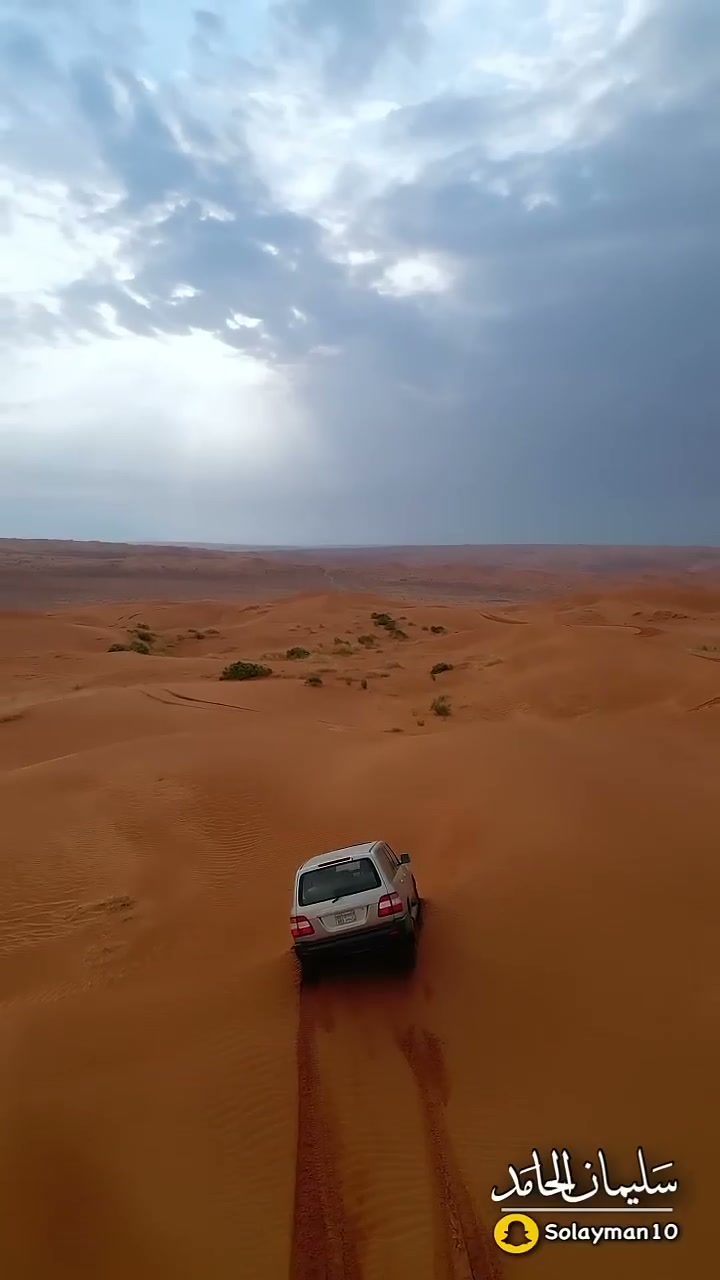vehicle_track: (399, 1026, 500, 1279), (289, 991, 360, 1279)
